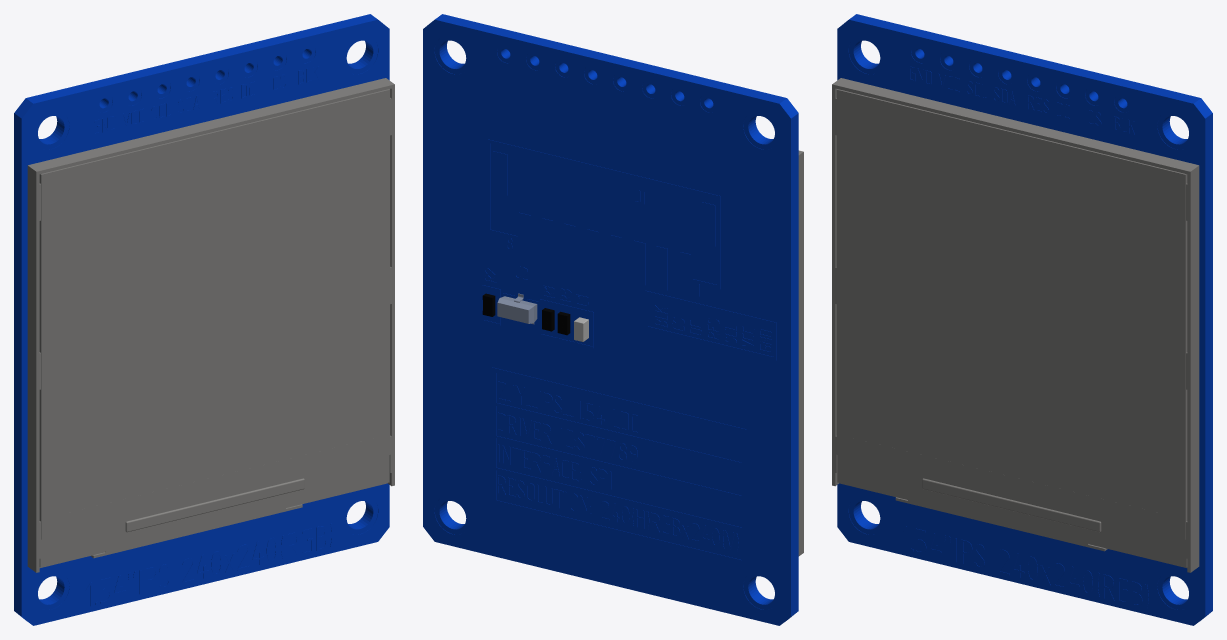
File: display-1-54.glb
3 views of the same model, side by side, from view 1: azimuth 30°, elevation 25°; view 2: azimuth 150°, elevation 25°; view 3: azimuth 330°, elevation 25° (orthographic).
Visible parts, largest first — view 1: 1.54 TFT IPS - 12P - Flat Flush Mount, 1.54 TFT IPS - Module - Board; view 2: 1.54 TFT IPS - Module - Board, 1.54 TFT IPS - 12P - Flat Flush Mount, SOT23; view 3: 1.54 TFT IPS - 12P - Flat Flush Mount, 1.54 TFT IPS - Module - Board.
Part boxes in pixels (<box>): 1.54 TFT IPS - 12P - Flat Flush Mount: <box>27,78,394,572</box>; 1.54 TFT IPS - Module - Board: <box>14,14,389,625</box>; 1.54 TFT IPS - Module - Board: <box>423,14,798,625</box>; 1.54 TFT IPS - 12P - Flat Flush Mount: <box>798,150,803,556</box>; SOT23: <box>497,293,537,324</box>; 1.54 TFT IPS - 12P - Flat Flush Mount: <box>832,78,1199,572</box>; 1.54 TFT IPS - Module - Board: <box>837,14,1212,625</box>.
Bounding box in the file's own units: 0.0322 × 0.0437 × 0.00389.
